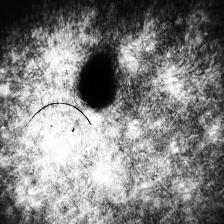Benign Marking or Mole: (78, 54, 114, 109)
